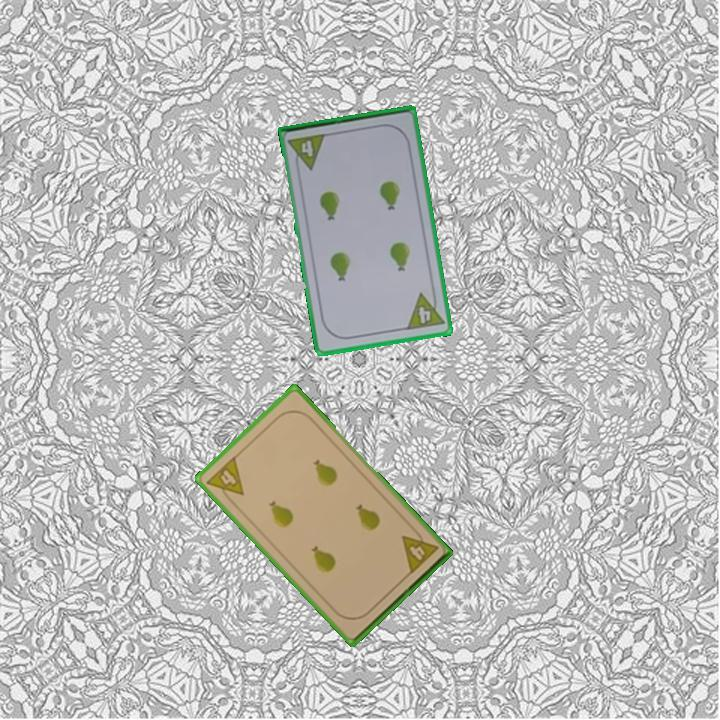4p: (203, 452, 247, 507), (398, 524, 441, 577), (403, 288, 447, 333), (285, 130, 329, 174)
